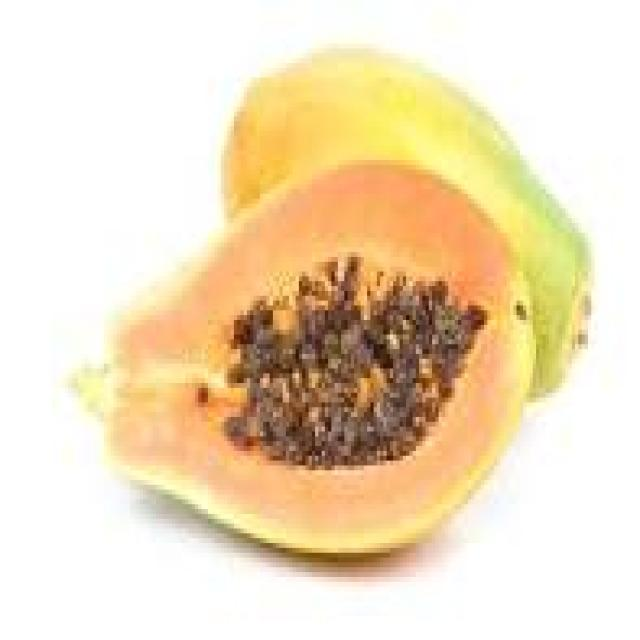papaya: (55, 39, 621, 562)
